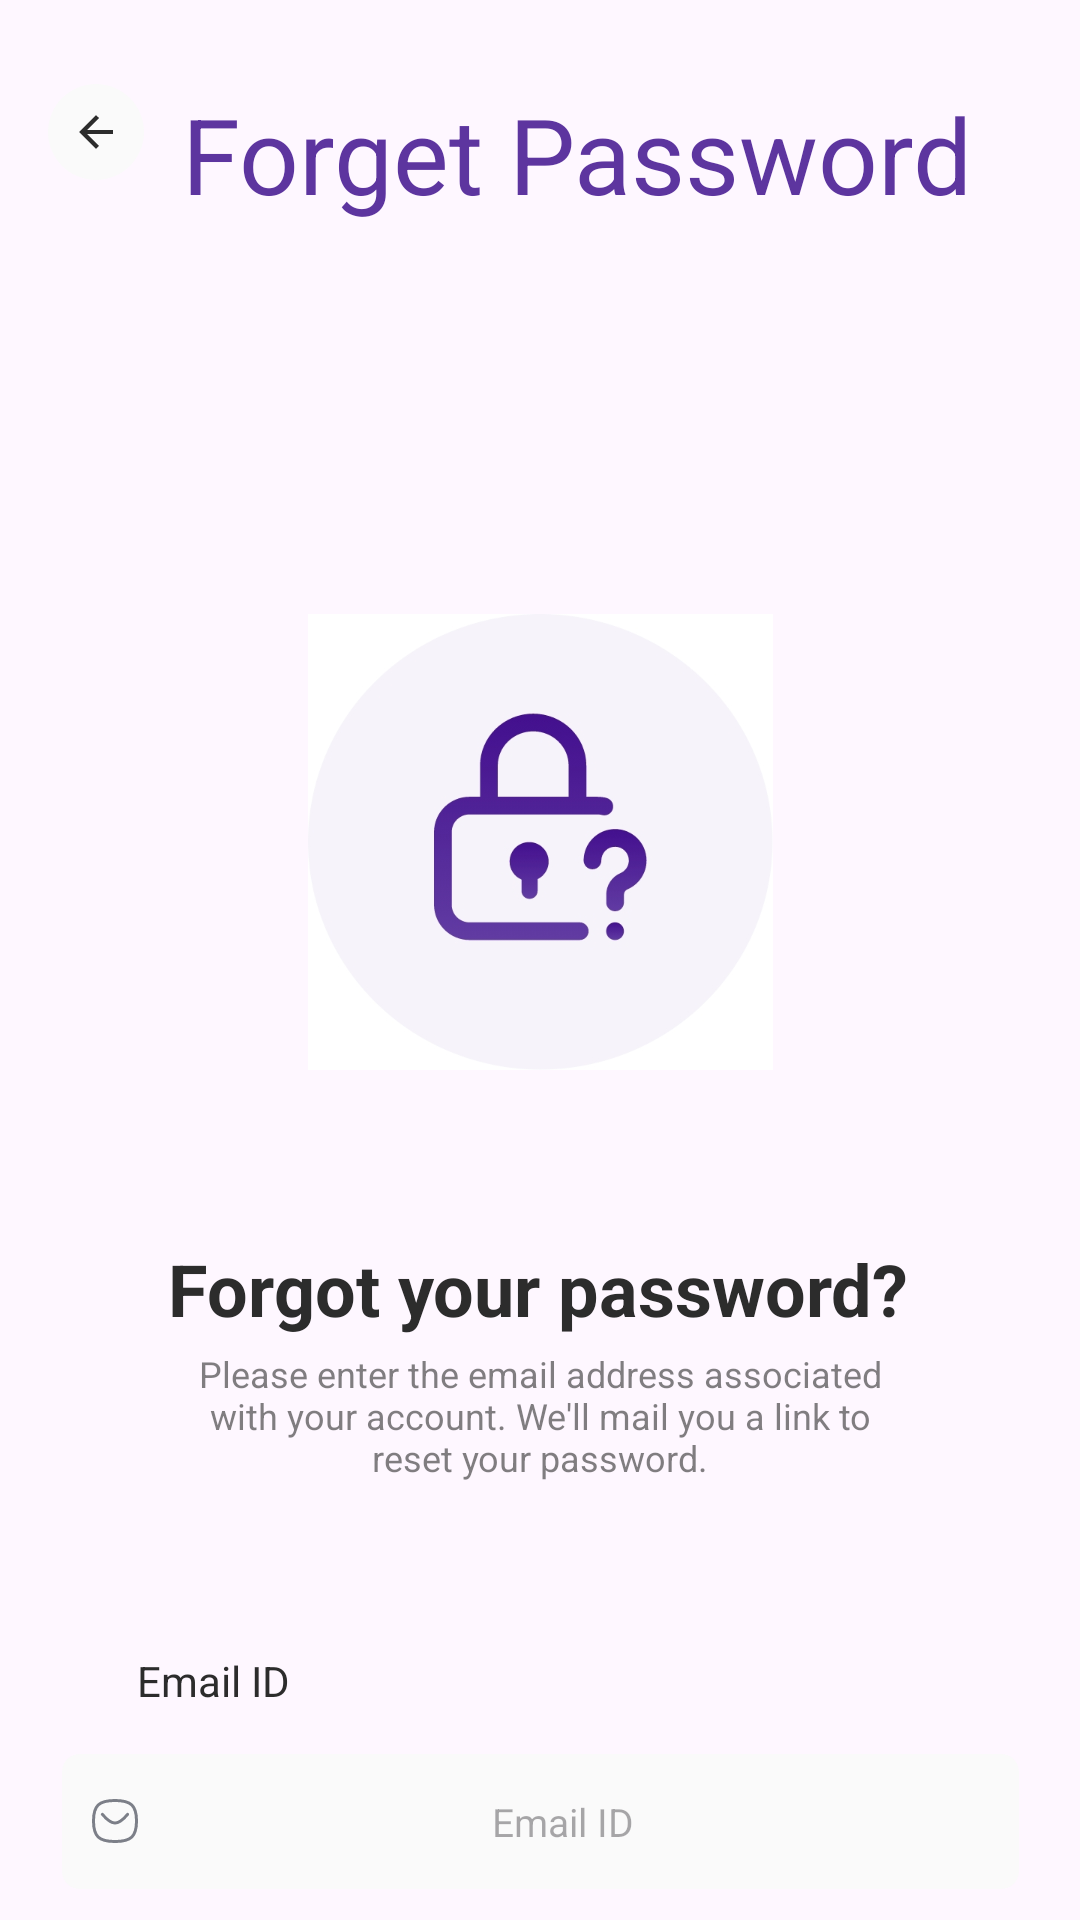

Icon click points for this 1080px×1920px phone screenshot, format (x,y):
backbutton: (96,132)
